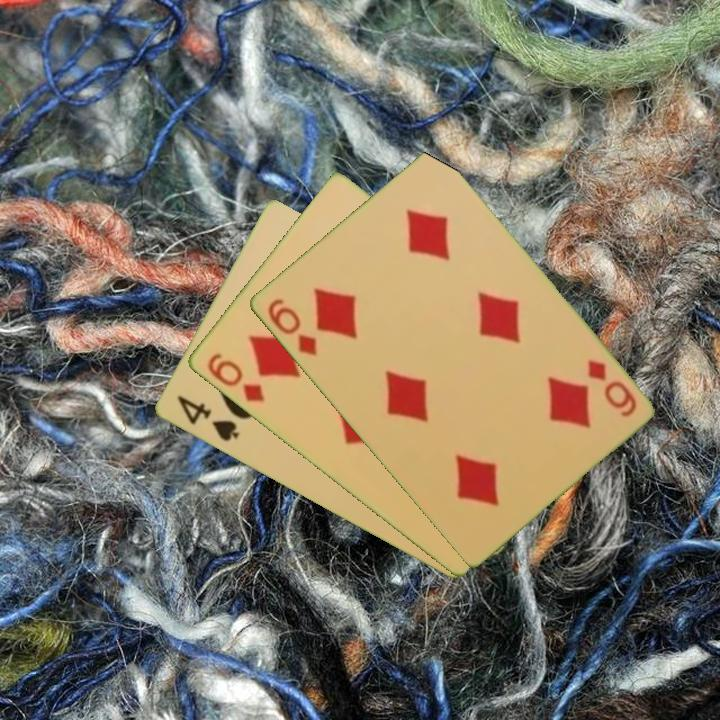4s: (173, 391, 242, 445)
6d: (263, 294, 320, 359), (583, 356, 640, 420), (203, 350, 268, 405)
